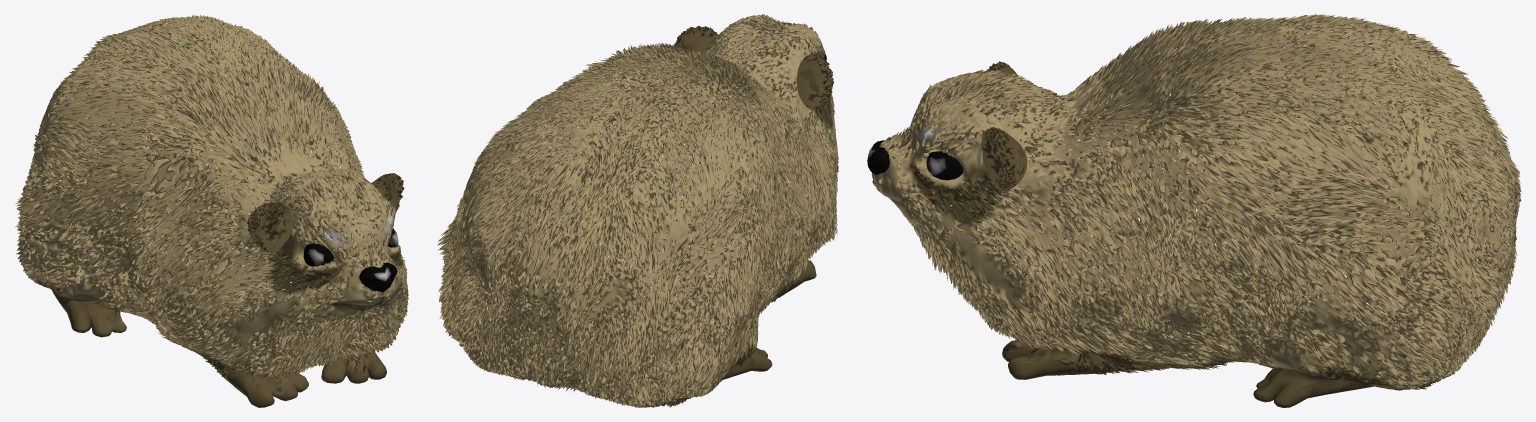
The model's file is hyrax.glb.
3 views of the same model, side by side, from view 1: azimuth 30°, elevation 25°; view 2: azimuth 150°, elevation 25°; view 3: azimuth 270°, elevation 25° (orthographic). The views are drawn at different scales.
Visible parts, largest first — view 1: Sphere; view 2: Sphere; view 3: Sphere.
Part boxes in pixels (<box>): Sphere: <box>15,14,408,407</box>; Sphere: <box>437,14,838,407</box>; Sphere: <box>867,14,1521,407</box>.
Bounding box in the file's own units: 2.21 × 1.94 × 3.64.
